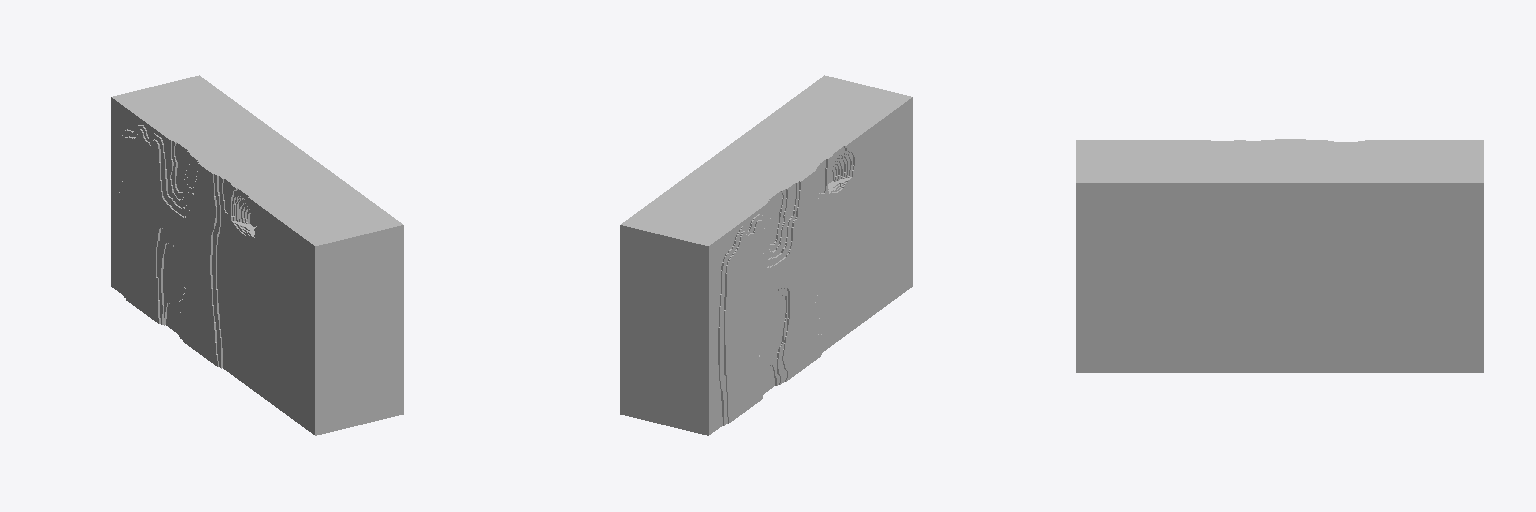
The model's file is Ground plane-4.obj.
The picture shows the model from 3 angles: view 1: azimuth 30°, elevation 25°; view 2: azimuth 150°, elevation 25°; view 3: azimuth 270°, elevation 25°; orthographic projection.
Visible parts, largest first — view 1: object 1; view 2: object 1; view 3: object 1.
Part boxes in pixels (bbox=[...]): object 1: bbox=[111, 75, 403, 435]; object 1: bbox=[620, 75, 912, 435]; object 1: bbox=[1076, 139, 1483, 372].
Size of the model in its own units: 6.6 by 13.1 by 25.6.